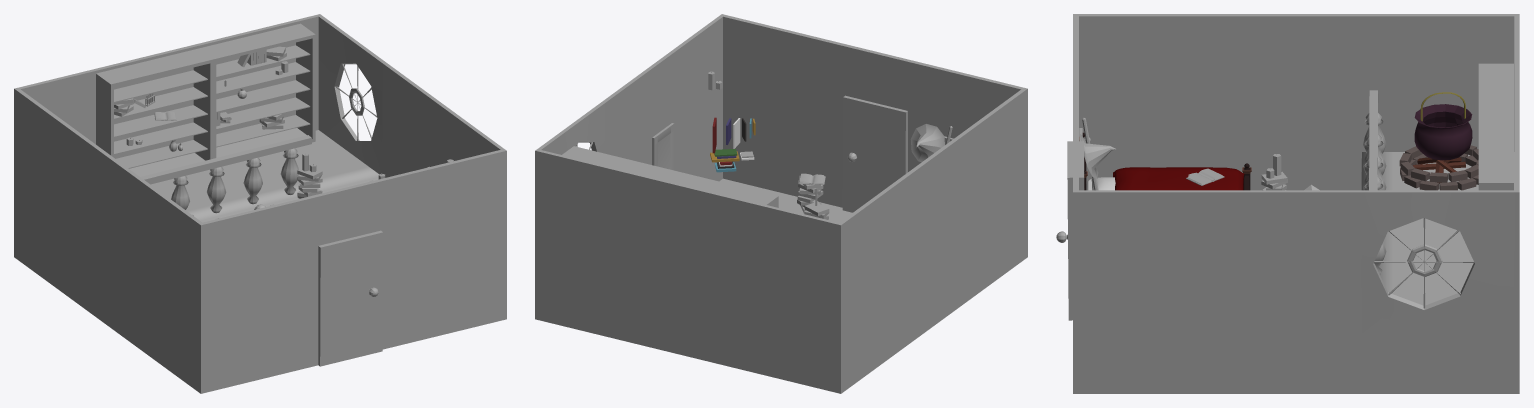
Rendered from unity_kamer.fbx.
The picture shows the model from 3 angles, left to right: view 1: azimuth 30°, elevation 25°; view 2: azimuth 150°, elevation 25°; view 3: azimuth 270°, elevation 25°; orthographic projection. The views are drawn at different scales.
Visible parts, largest first — view 1: pCube1, kast1:pCube7, pCube61, pCube9, pCube2, pCylinder4, pCylinder5, pCylinder6, pCylinder3, pCube88; view 2: pCube1, pCube9, kast1:pCube7, pCube61, heksenhoed:pCone1, pCube70; view 3: pCube1, pCylinder71, polySurface34, pCube61, kast1:pCube7, pCube9, pCube2, heksenhoed:pCone1, pTorus1.
Part boxes in pixels (x1,y1,x2,y2): pCube1: (14, 14, 506, 393); kast1:pCube7: (96, 48, 213, 176); pCube61: (198, 23, 315, 158); pCube9: (318, 230, 383, 366); pCube2: (140, 135, 311, 184); pCylinder4: (243, 157, 262, 204); pCylinder5: (207, 167, 226, 213); pCylinder6: (280, 148, 298, 194); pCylinder3: (171, 176, 189, 209); pCube88: (297, 166, 322, 187); pCube1: (535, 14, 1027, 393); pCube9: (842, 95, 907, 212); kast1:pCube7: (664, 171, 778, 207); pCube61: (562, 146, 675, 179); heksenhoed:pCone1: (910, 124, 944, 162); pCube70: (652, 123, 674, 170); pCube1: (1073, 14, 1519, 393); pCylinder71: (1399, 92, 1478, 190); polySurface34: (1079, 132, 1251, 190); pCube61: (1478, 123, 1513, 190); kast1:pCube7: (1478, 63, 1513, 123); pCube9: (1067, 141, 1084, 320); pCube2: (1369, 90, 1378, 190); heksenhoed:pCone1: (1080, 134, 1116, 178); pTorus1: (1407, 244, 1442, 276).
Size of what is drawn, in the model's own units: 5.98 by 3.15 by 6.55.
